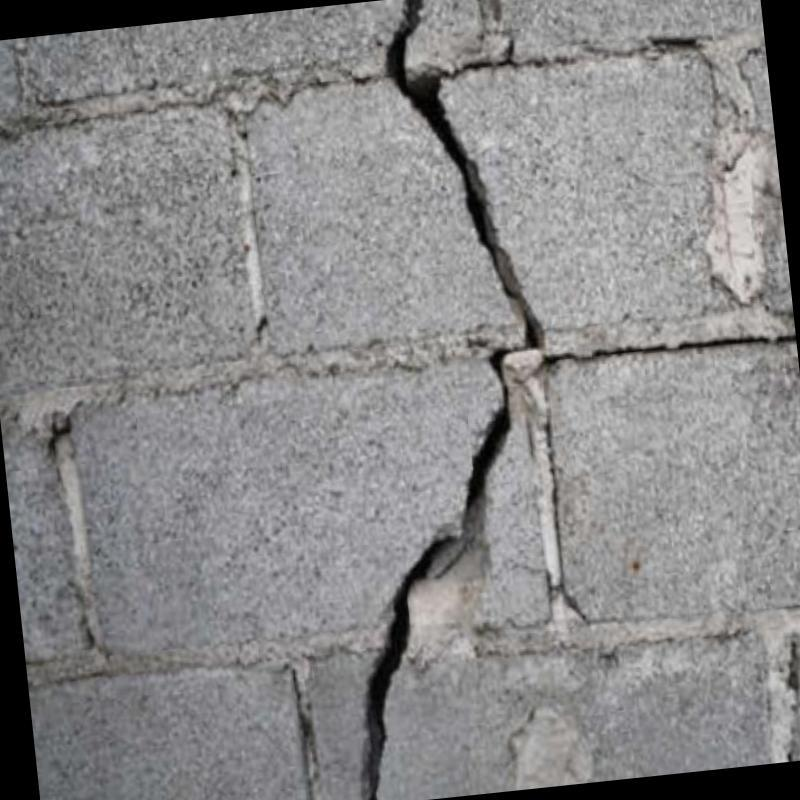pothole: (361, 0, 542, 800), (537, 331, 794, 362)
